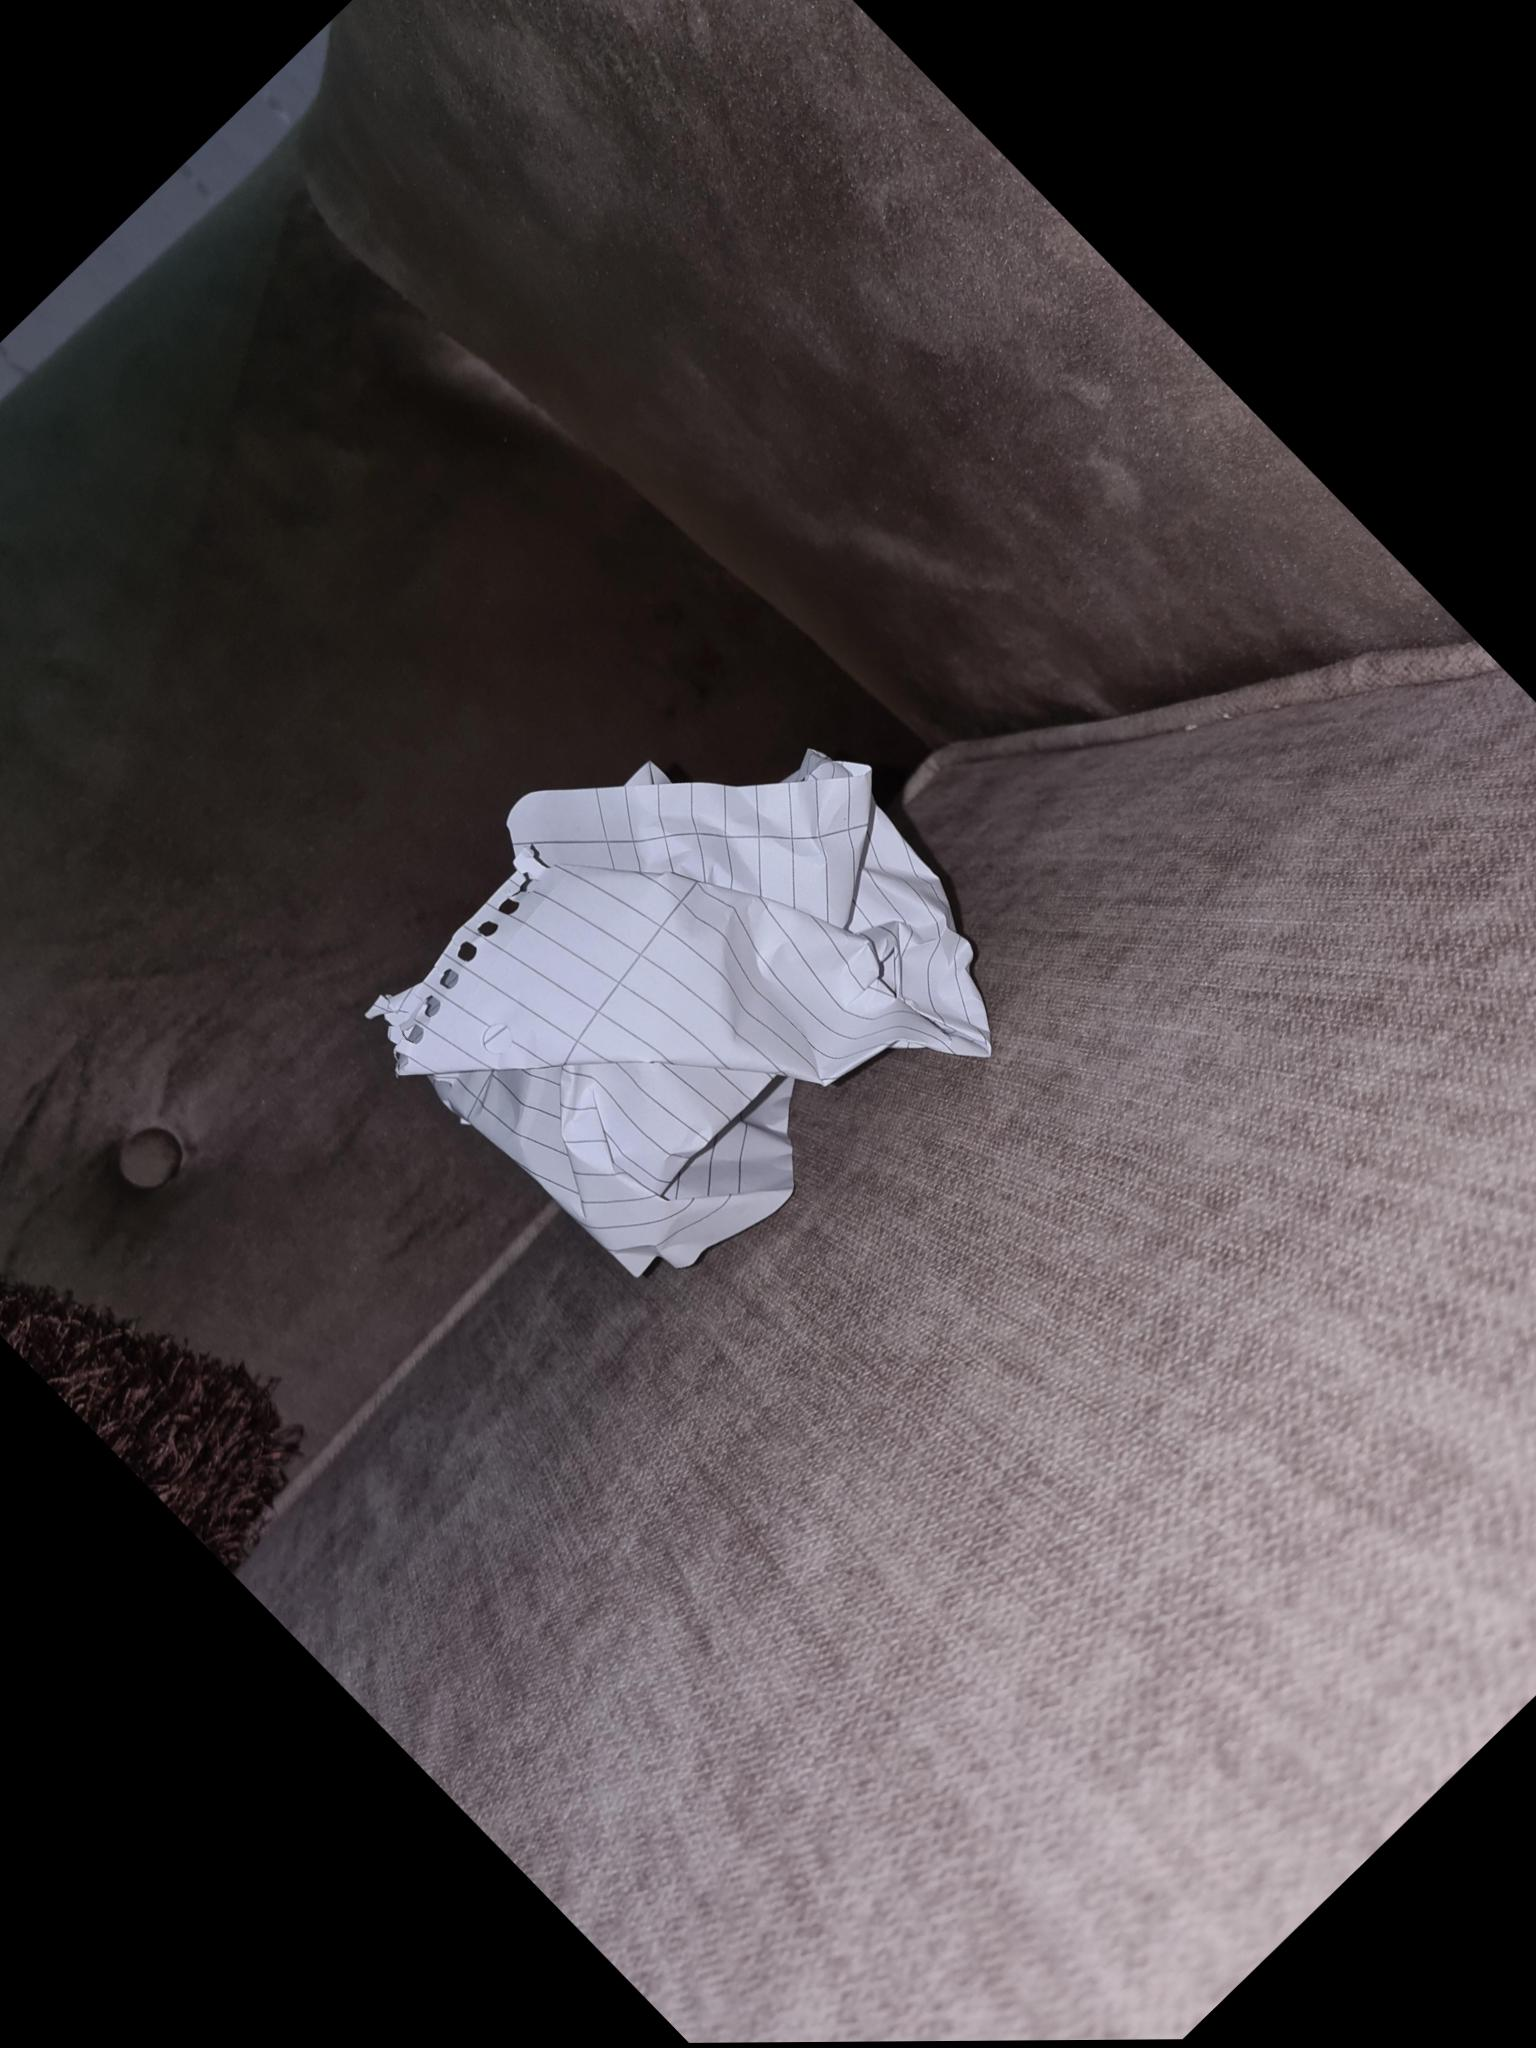paper: (369, 751, 989, 1276)
